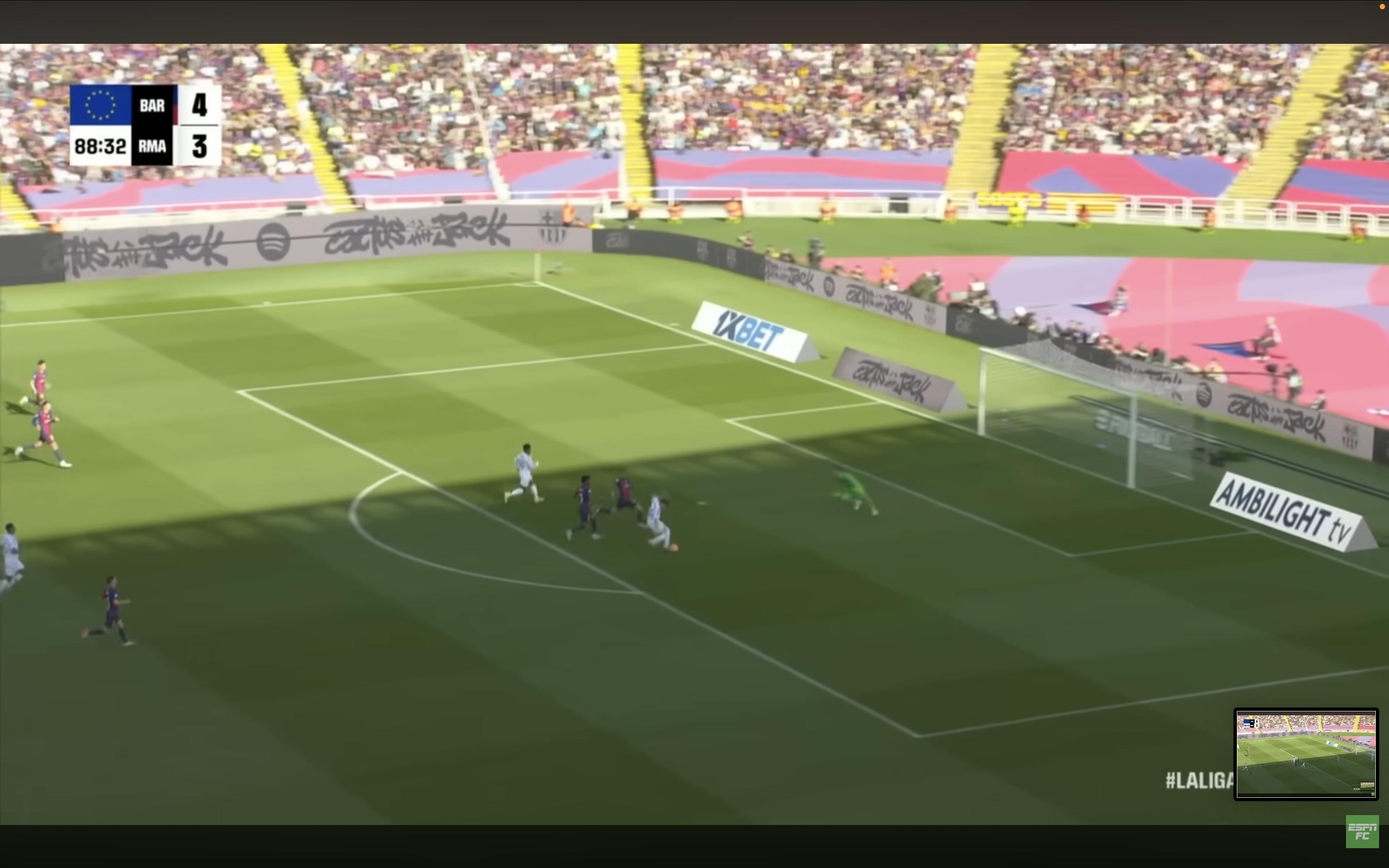ball: (669, 544, 680, 553)
goalkeeper: (833, 468, 879, 515)
player: (14, 401, 72, 466), (81, 576, 134, 646), (504, 444, 543, 502), (566, 475, 601, 539), (599, 477, 644, 521), (0, 523, 24, 599), (647, 496, 678, 552), (19, 360, 46, 407)
